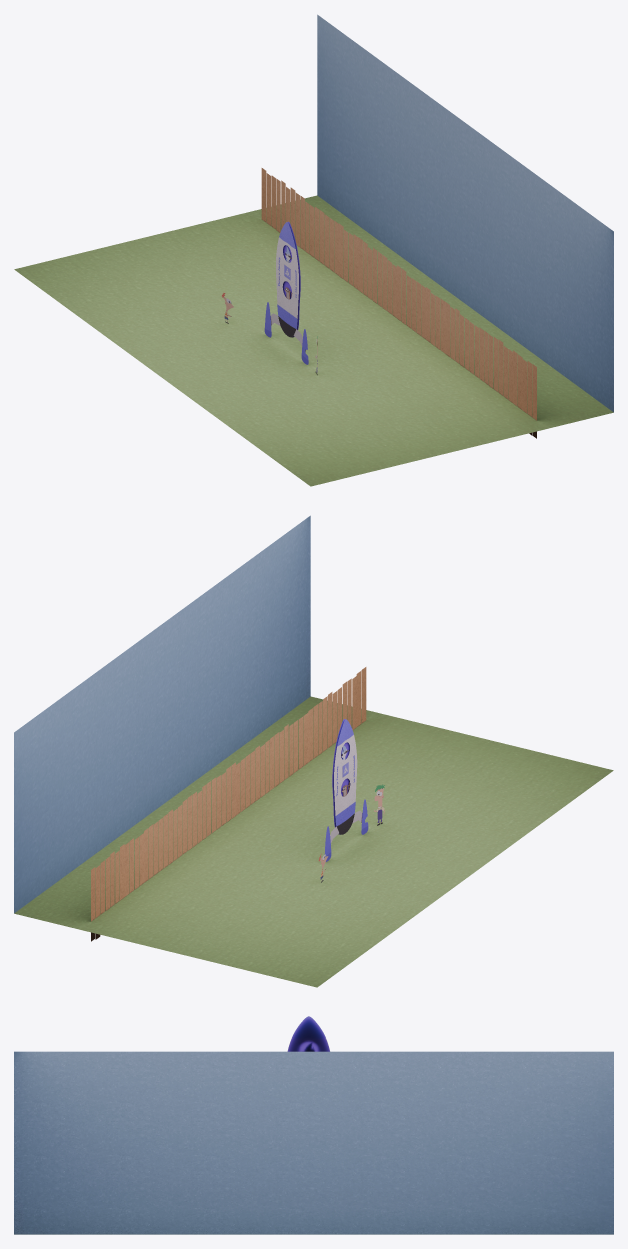
Rendered from real_trolls.glb.
3 renders of one model, top to bottom at view 1: azimuth 30°, elevation 25°; view 2: azimuth 150°, elevation 25°; view 3: azimuth 270°, elevation 25°, orthographic.
Parts seen in each view (by area): view 1: Plane.001_Baked, Plane.027_Baked; view 2: Plane.001_Baked, Plane.027_Baked; view 3: Plane.001_Baked, Plane.027_Baked.
Boxes of the visible parts, bbox=[...] form: Plane.001_Baked: bbox=[14, 14, 613, 486]; Plane.027_Baked: bbox=[222, 221, 317, 374]; Plane.001_Baked: bbox=[14, 515, 613, 987]; Plane.027_Baked: bbox=[318, 719, 384, 882]; Plane.001_Baked: bbox=[14, 1051, 613, 1234]; Plane.027_Baked: bbox=[287, 1016, 330, 1051].
Size of the model in its own units: 13.07 by 8.35 by 22.16.
Materials: 2 (2 with a texture image).
